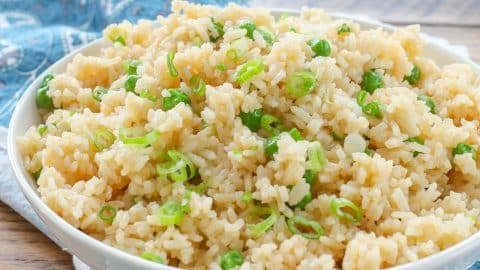rice: (67, 19, 480, 242)
